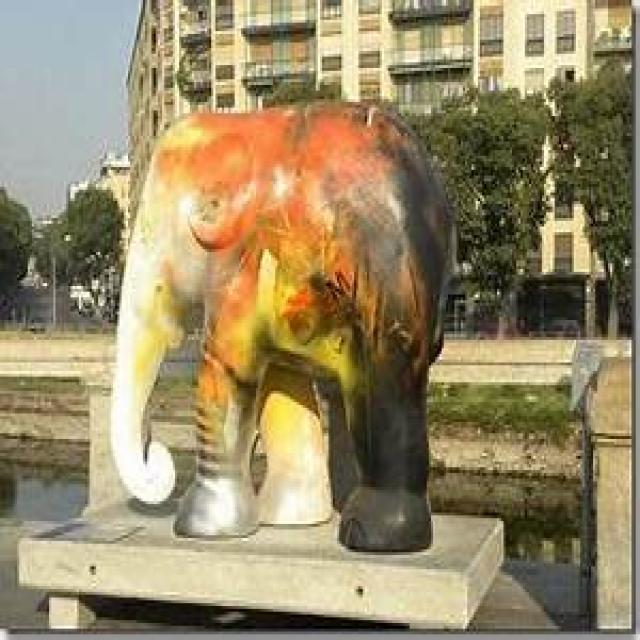elephant: (109, 102, 457, 558)
